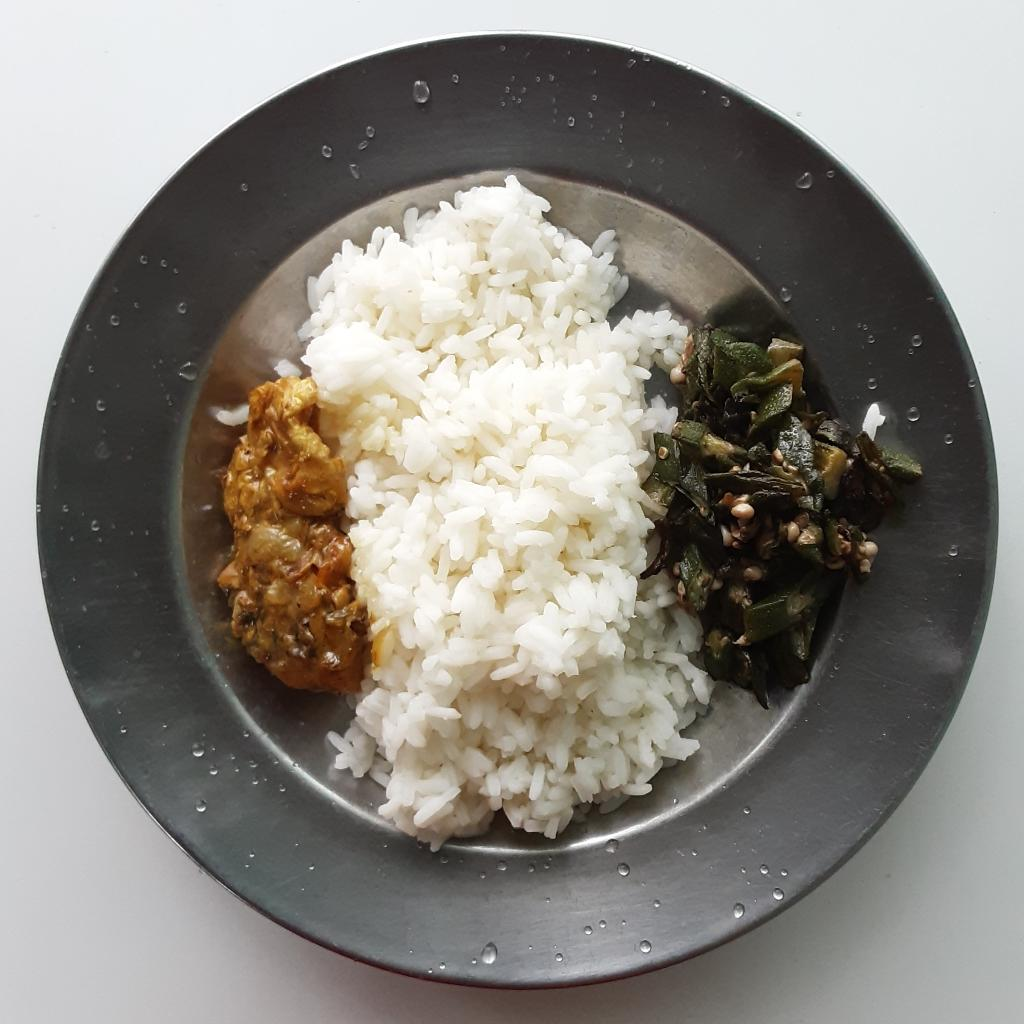fish: (217, 380, 366, 691)
okra: (655, 319, 922, 702)
rice: (298, 175, 715, 852)
